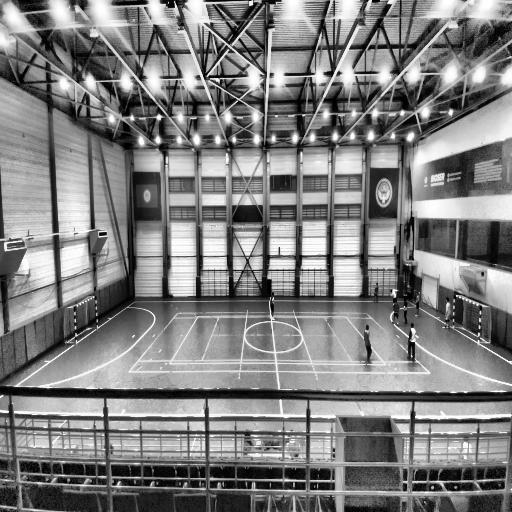ball: (385, 268, 388, 272)
player: (406, 322, 417, 362), (363, 323, 373, 363), (443, 295, 452, 329), (392, 298, 399, 327), (269, 290, 275, 322), (402, 297, 408, 325), (415, 291, 421, 317), (390, 289, 399, 303), (407, 280, 412, 303), (374, 282, 379, 303)
